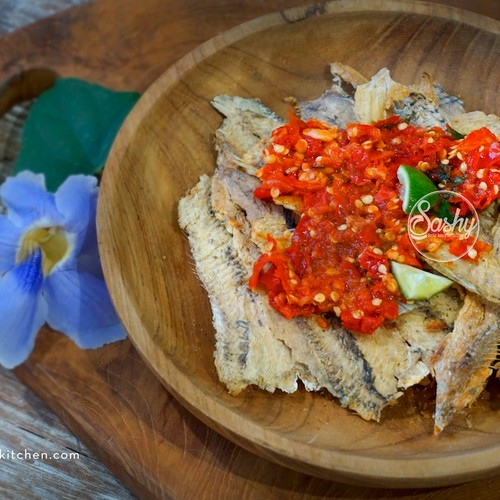sudang lepet: (191, 78, 486, 409)
